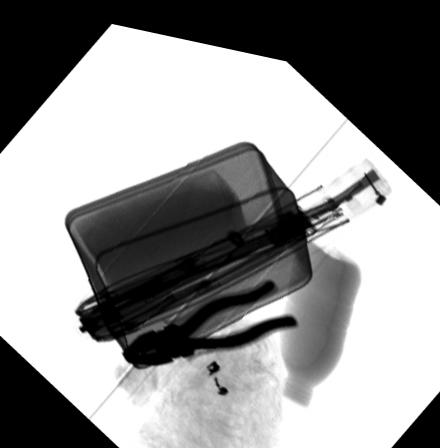Pliers: (118, 265, 298, 360)
